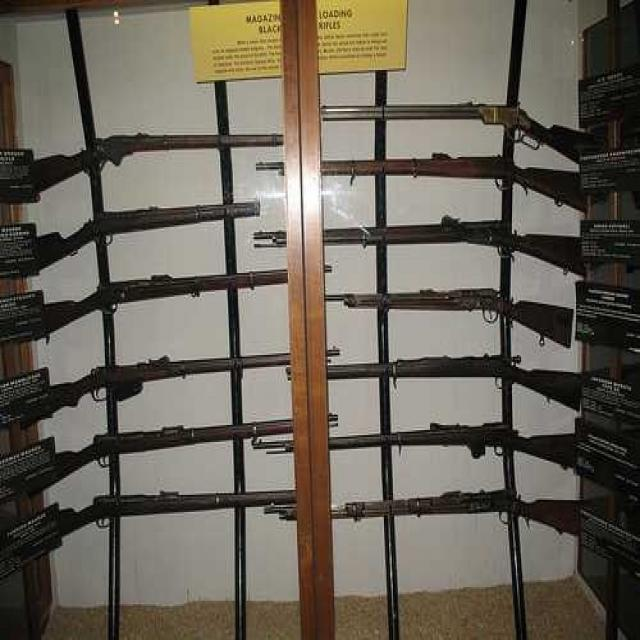weapon: (0, 80, 292, 224), (0, 476, 315, 591), (3, 321, 304, 438), (0, 386, 311, 495), (314, 74, 614, 168), (5, 252, 292, 346), (320, 202, 582, 278), (328, 350, 618, 413), (325, 416, 593, 478), (317, 493, 603, 541)
